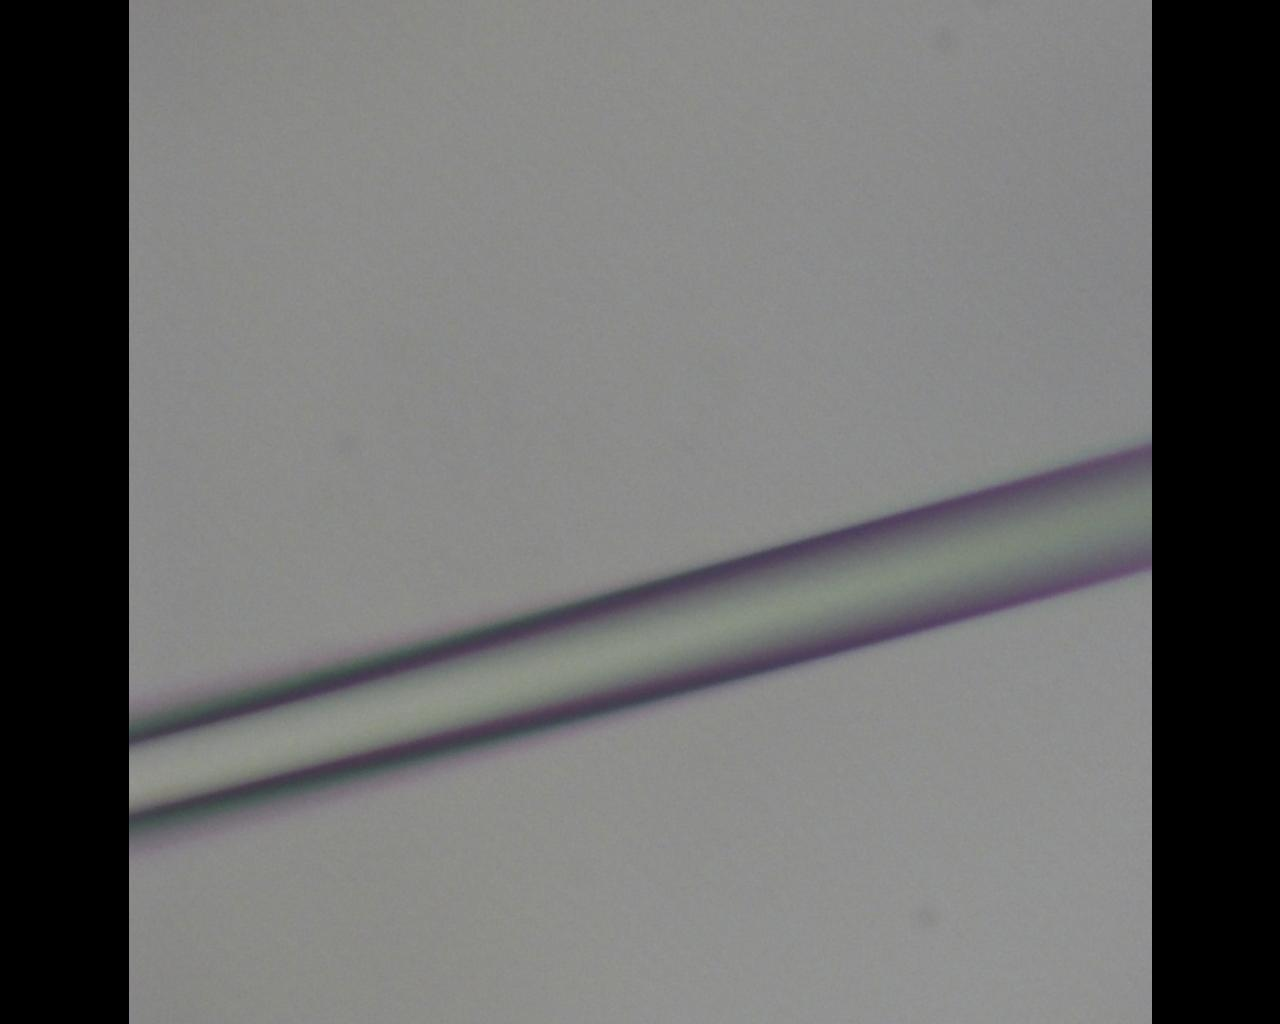fiber: (0, 297, 1280, 939)
